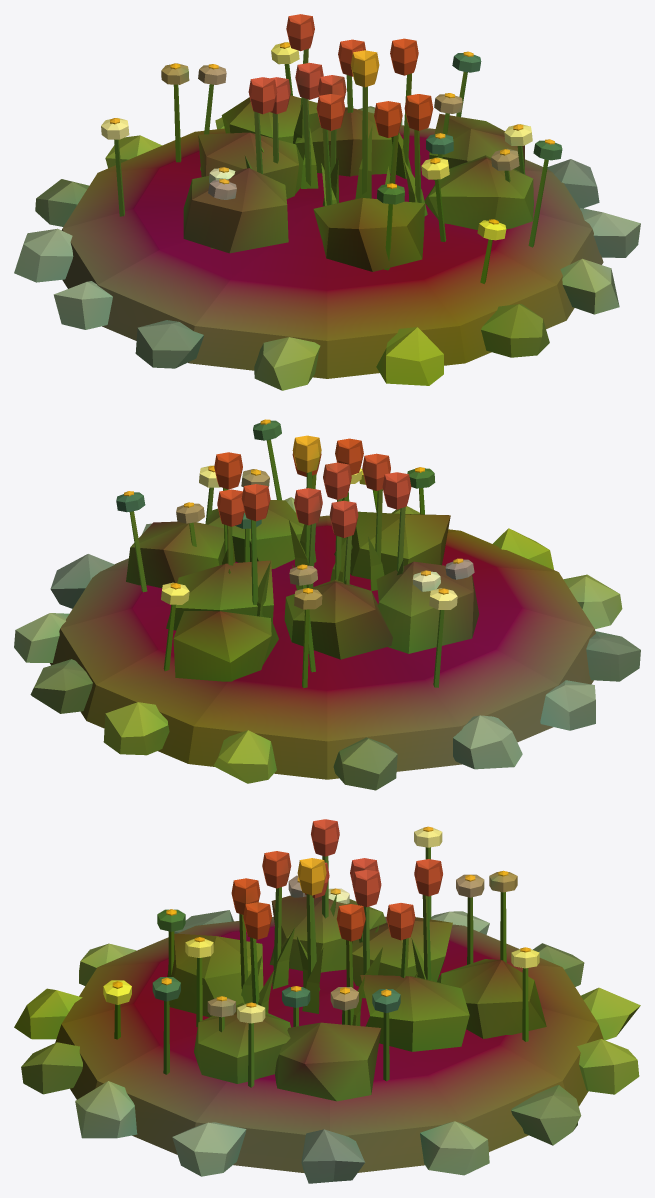
Rendered from FlowerBed_Round_01.fbx.
3 renders of one model, top to bottom at view 1: azimuth 30°, elevation 25°; view 2: azimuth 150°, elevation 25°; view 3: azimuth 270°, elevation 25°, orthographic.
Visible parts, largest first — view 1: FlowerBed_Round_01; view 2: FlowerBed_Round_01; view 3: FlowerBed_Round_01.
Boxes of the visible parts, x1=… form: FlowerBed_Round_01: x1=14, y1=14, x2=640, y2=390; FlowerBed_Round_01: x1=14, y1=419, x2=640, y2=790; FlowerBed_Round_01: x1=14, y1=819, x2=640, y2=1183.
Bounding box in the file's own units: 1.68 × 0.6183 × 1.68.
